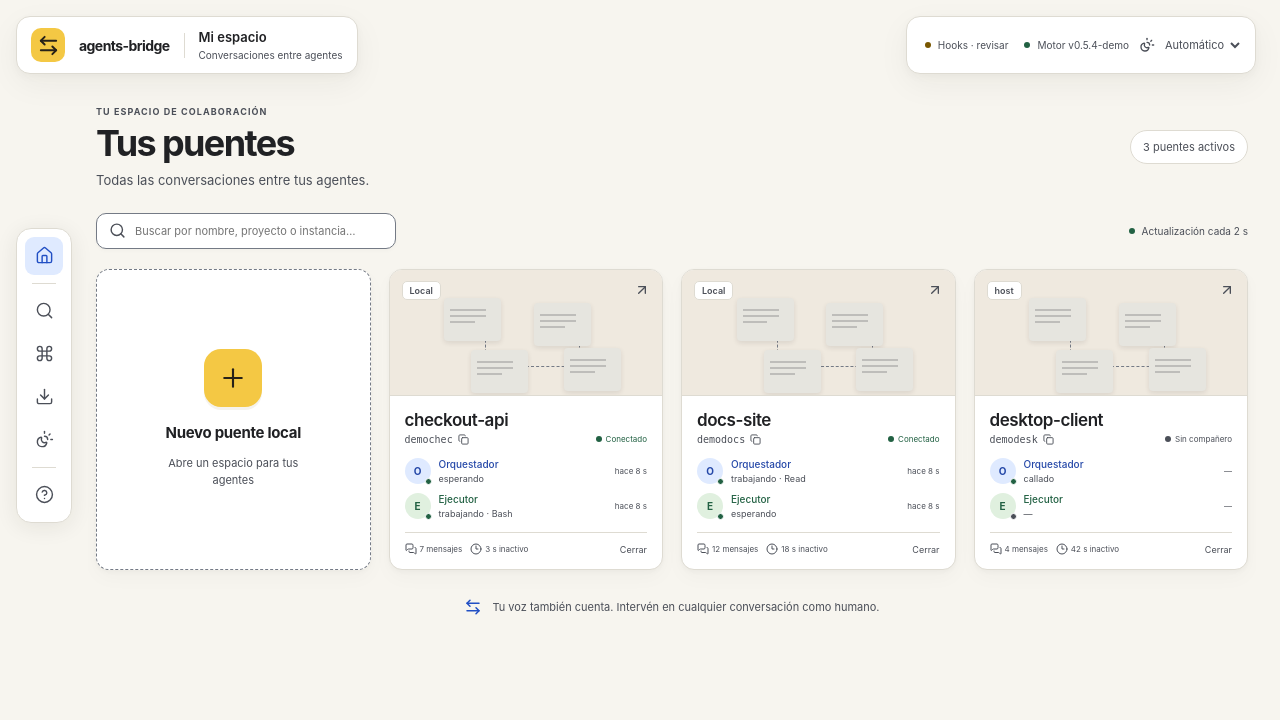
Test: home filters, opens a bridge and receives replay without consuming it
Check: the button with aria-label "Abrir checkout-api" is shown, box left=390, top=270, right=662, bottom=396
Type "checkout" into the field named "Filtrar puentes" at (259, 231), box left=135, top=214, right=383, bottom=248
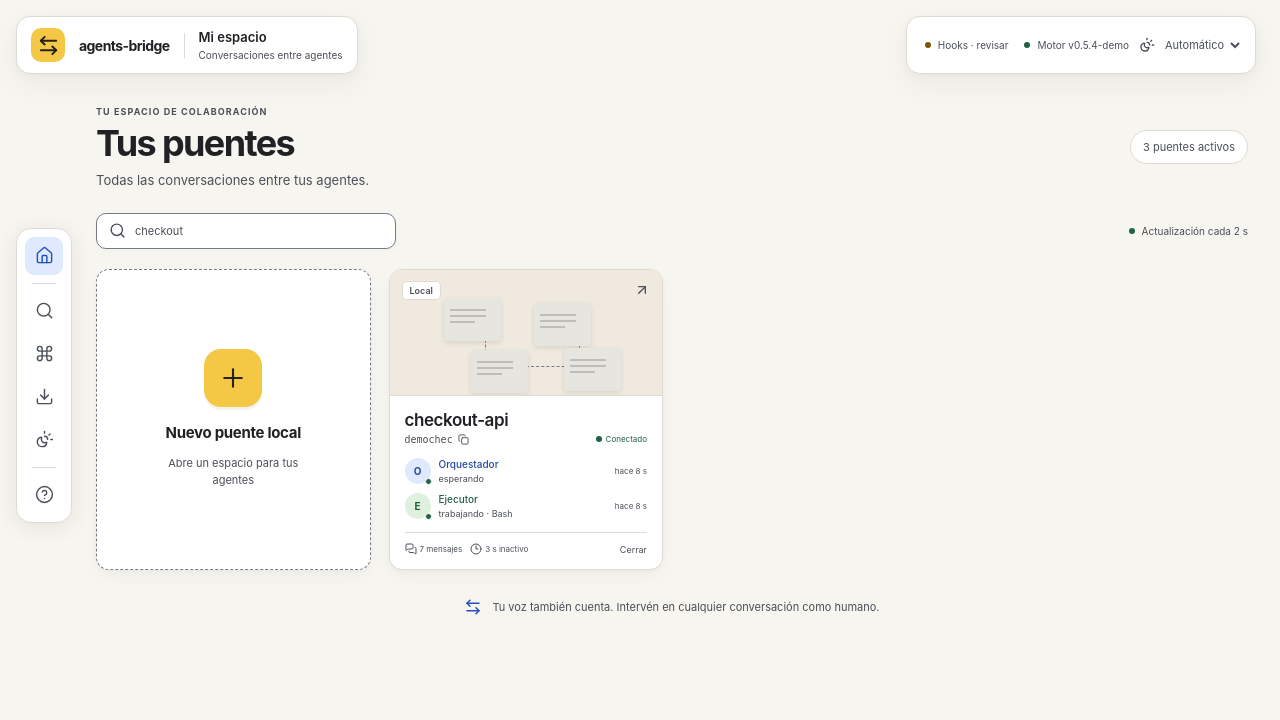
Click the button with aria-label "Abrir checkout-api" at (526, 333), box left=390, top=270, right=662, bottom=396
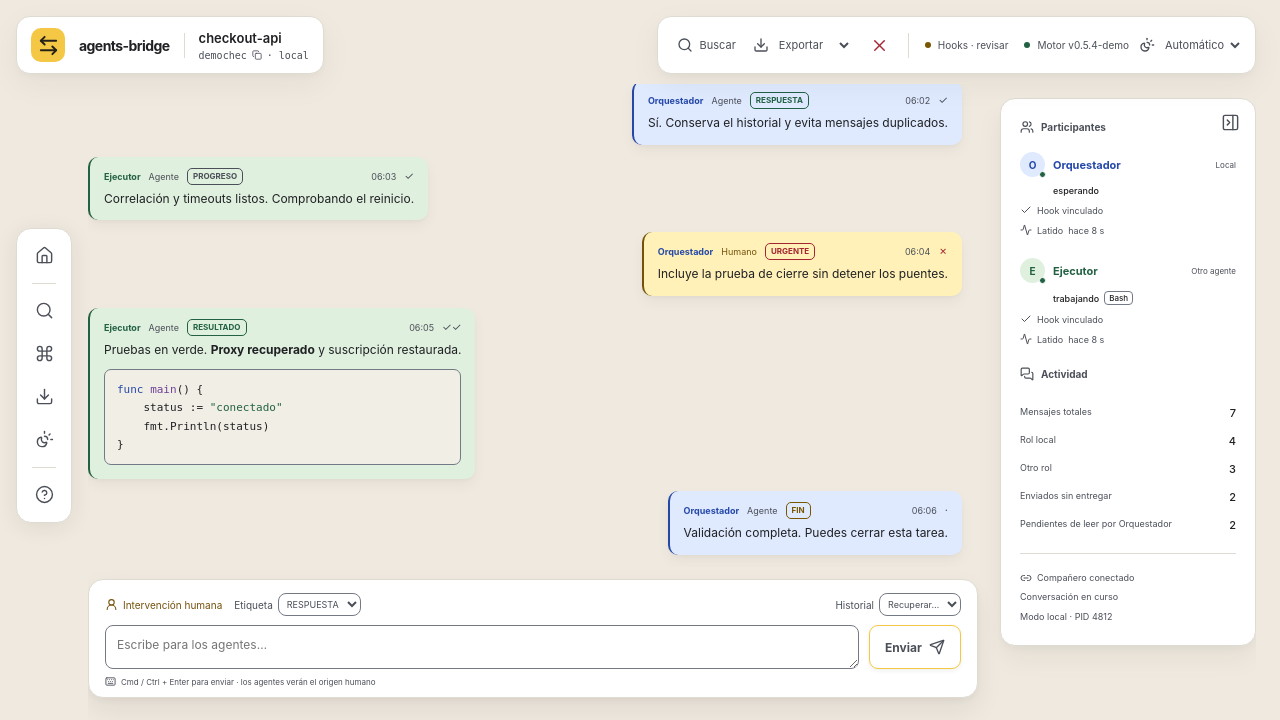
Check: the element named "Estado del puente" is shown, box left=1000, top=98, right=1256, bottom=646
Click the button named "Volver a inicio" at (44, 256), box left=25, top=237, right=63, bottom=275
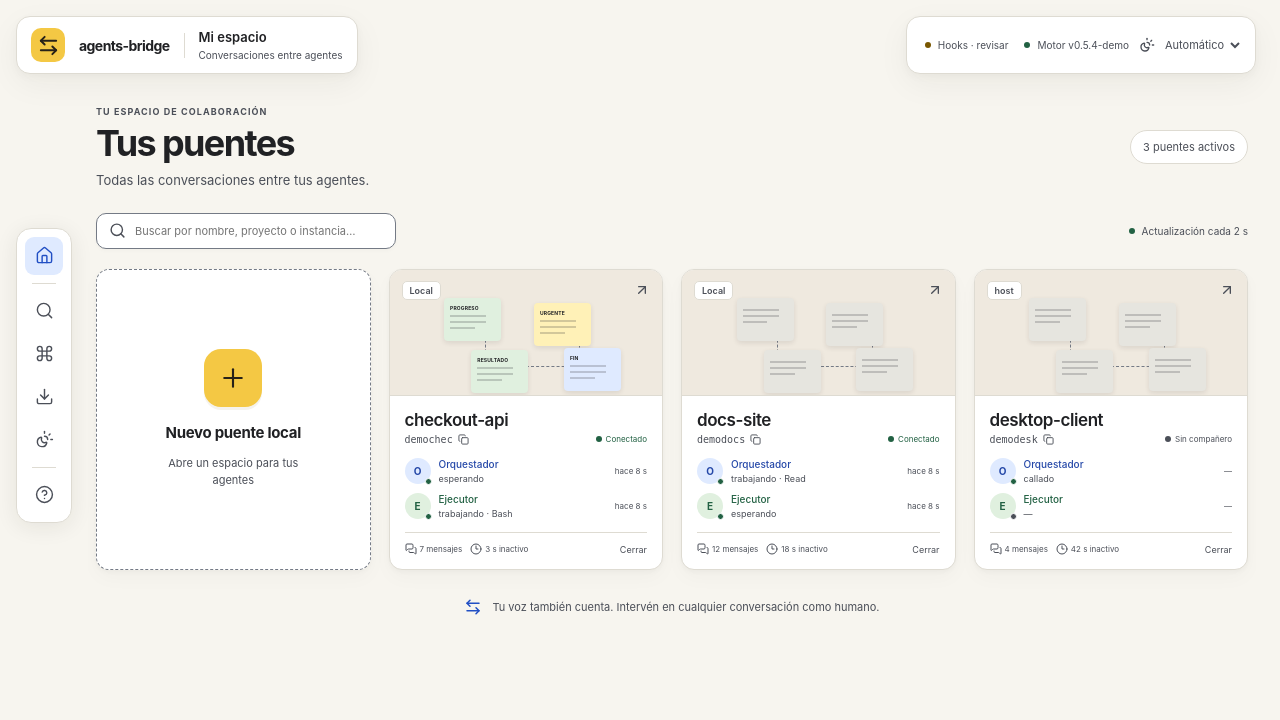
Check: the heading "Tus puentes" is shown, box left=96, top=121, right=294, bottom=165
